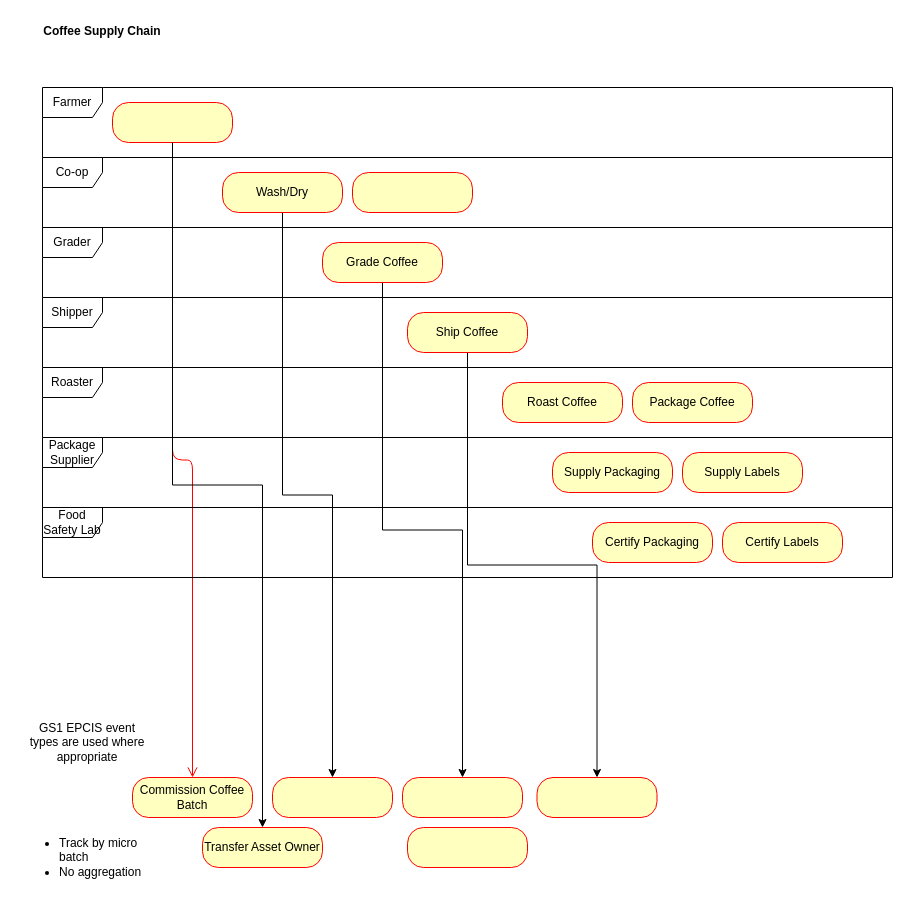
Image size: 910x914. Some labels were removed from this diagram. The centre of each missing label's shape, as x and y in pixels:
"Create Serial Shipping Container Code" goes at (596,797).
"Observe & Grade Asset" goes at (462,797).
"Persist Grading Certificate" goes at (467,847).
"Register Coffee Batch" goes at (172,122).
"Sort" goes at (412,192).
"Transform Asset" goes at (332,797).
